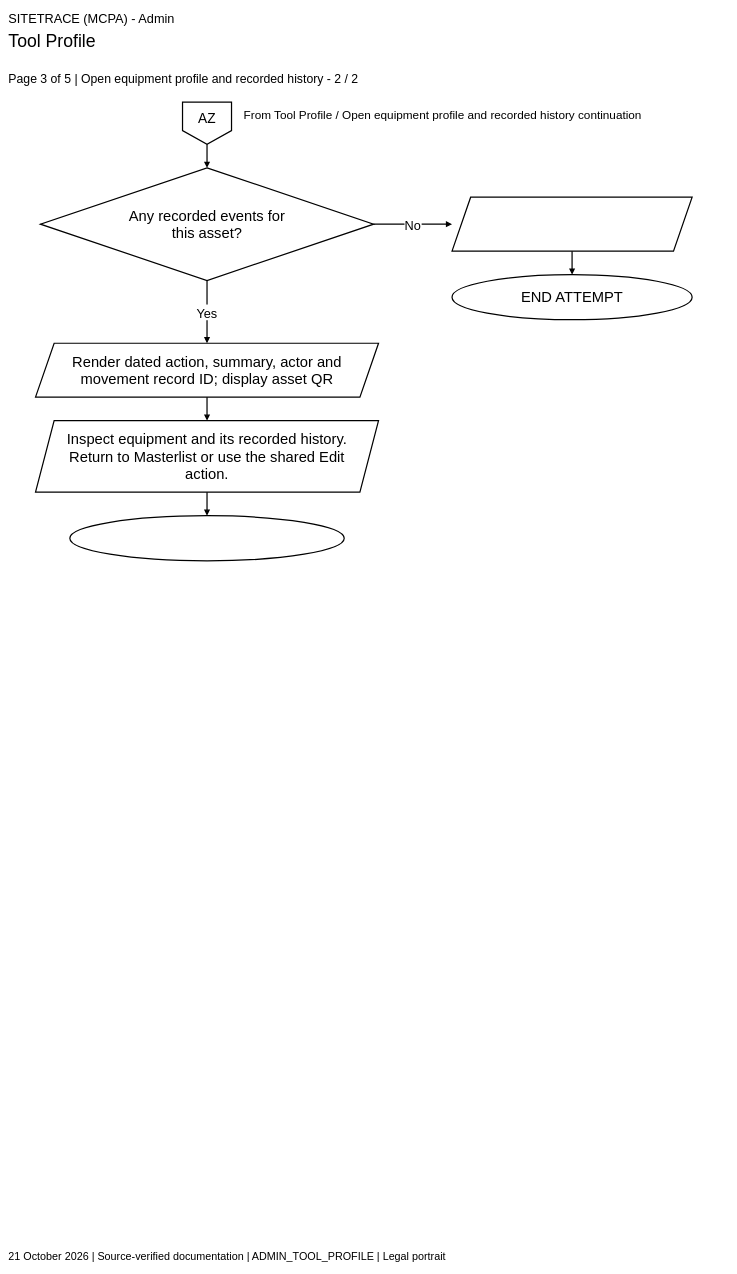
This 737x1274 diagram has some shape labels left out. Here are the shapes that lost their labels. From the top down, the centre of each, then its label:
the point at 572,224: Show No movement has been recorded for this tool
the point at 207,538: END
